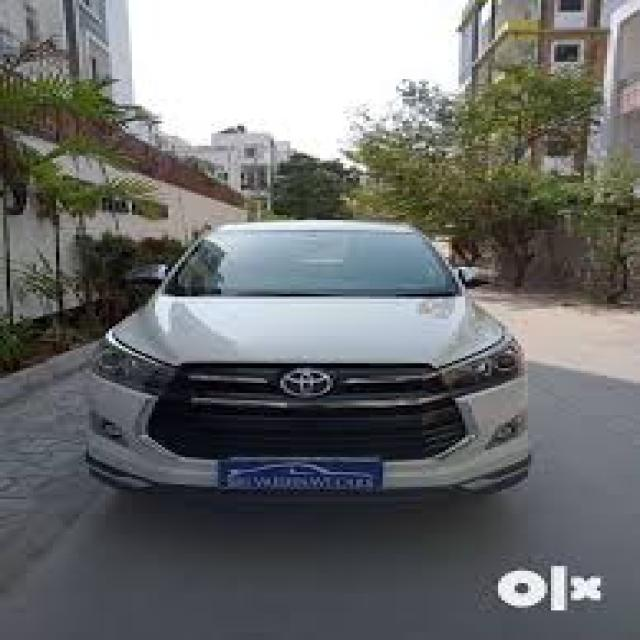light_vehicle: (83, 219, 532, 509)
